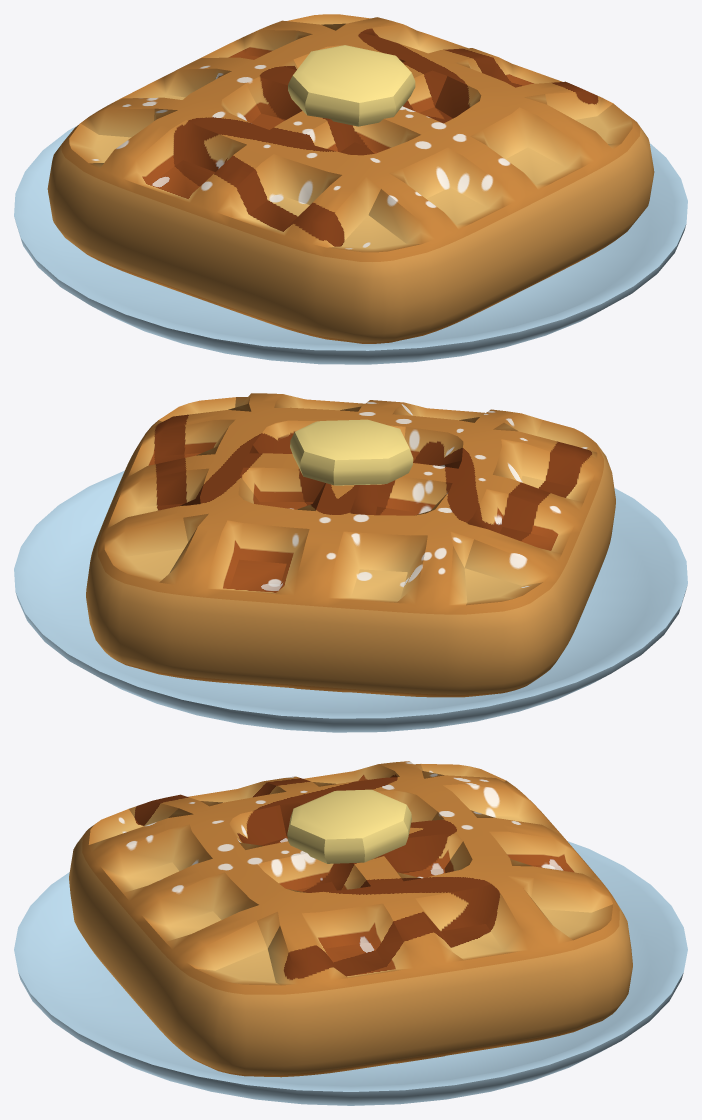
The model's file is BelgianWaffle.glb.
3 renders of one model, top to bottom at view 1: azimuth 30°, elevation 25°; view 2: azimuth 150°, elevation 25°; view 3: azimuth 270°, elevation 25°, orthographic.
Parts seen in each view (by area): view 1: BelgianWaffle; view 2: BelgianWaffle; view 3: BelgianWaffle.
Boxes of the visible parts, left/top/right/bottom form: BelgianWaffle: left=14, top=14, right=687, bottom=364; BelgianWaffle: left=14, top=393, right=687, bottom=732; BelgianWaffle: left=14, top=761, right=687, bottom=1105.
Bounding box in the file's own units: 1.53 × 0.4764 × 1.53.
Materials: 4 (4 with a texture image).
